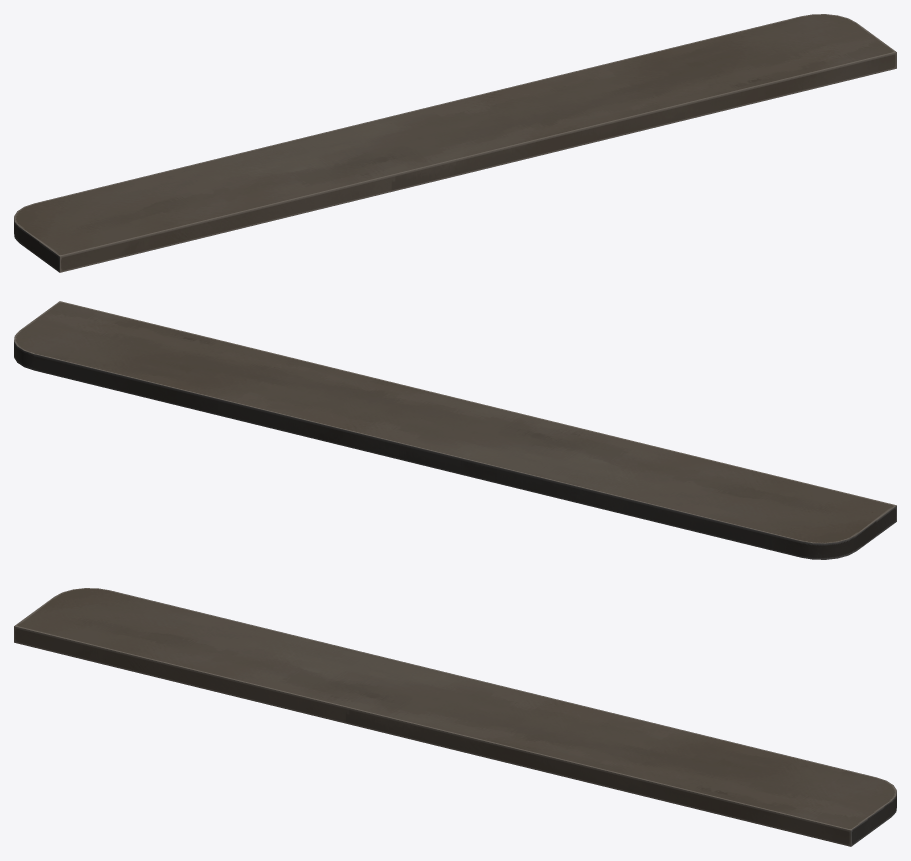
The model's file is Cela_Shelf.fbx.
The picture shows the model from 3 angles, top to bottom: view 1: azimuth 30°, elevation 25°; view 2: azimuth 150°, elevation 25°; view 3: azimuth 330°, elevation 25°; orthographic projection.
Parts seen in each view (by area): view 1: Plane.128; view 2: Plane.128; view 3: Plane.128.
Boxes of the visible parts, x1,y1,x2,y2 form: Plane.128: [14, 14, 896, 272]; Plane.128: [14, 301, 896, 559]; Plane.128: [14, 588, 896, 846].
Bounding box in the file's own units: 197 × 3.68 × 24.77.
